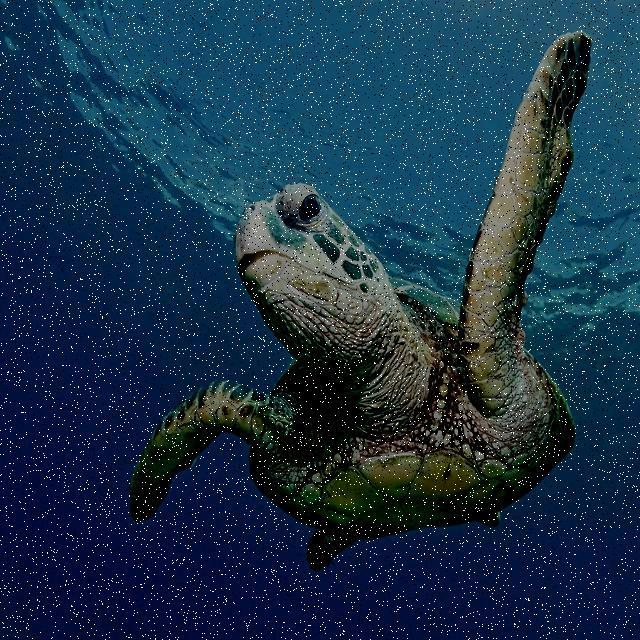tortoise: (129, 26, 606, 558)
